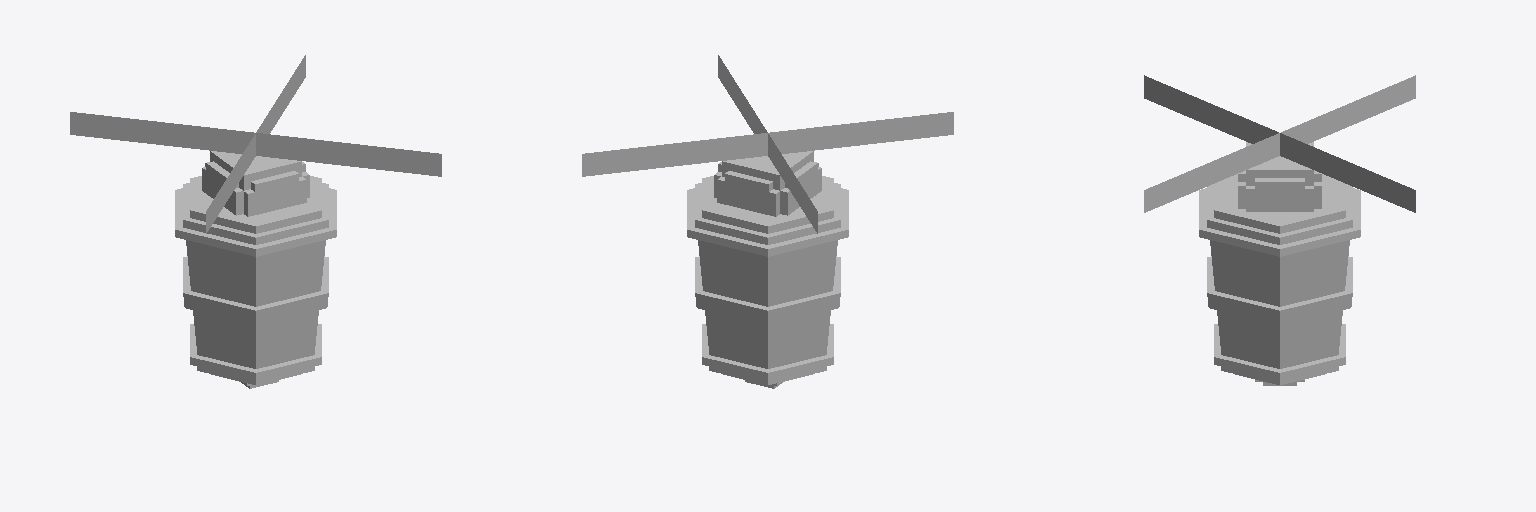
File: lantern_large.obj
3 renders of one model, left to right at view 1: azimuth 30°, elevation 25°; view 2: azimuth 150°, elevation 25°; view 3: azimuth 270°, elevation 25°, orthographic.
Parts seen in each view (by area): view 1: group2 group1 pCube11, group2 group1 pPlane3, group2 group1 pPlane5, pPlane4 group2 group1, group2 group1 pPlane6; view 2: group2 group1 pCube11, pPlane4 group2 group1, group2 group1 pPlane6, group2 group1 pPlane3, group2 group1 pPlane5; view 3: group2 group1 pCube11, pPlane4 group2 group1, group2 group1 pPlane3, group2 group1 pPlane6, group2 group1 pPlane5.
Boxes of the visible parts, <box> form: group2 group1 pCube11: <box>175,151,336,388</box>; group2 group1 pPlane3: <box>70,112,441,176</box>; group2 group1 pPlane5: <box>70,112,441,176</box>; pPlane4 group2 group1: <box>206,55,305,232</box>; group2 group1 pPlane6: <box>206,56,305,233</box>; group2 group1 pCube11: <box>687,151,848,388</box>; pPlane4 group2 group1: <box>582,112,953,176</box>; group2 group1 pPlane6: <box>582,112,953,176</box>; group2 group1 pPlane3: <box>718,55,817,232</box>; group2 group1 pPlane5: <box>718,56,817,233</box>; group2 group1 pCube11: <box>1199,142,1360,385</box>; pPlane4 group2 group1: <box>1144,75,1415,212</box>; group2 group1 pPlane3: <box>1144,75,1415,212</box>; group2 group1 pPlane6: <box>1144,78,1415,210</box>; group2 group1 pPlane5: <box>1144,78,1415,210</box>.
Bounding box in the file's own units: 1 × 1 × 1.